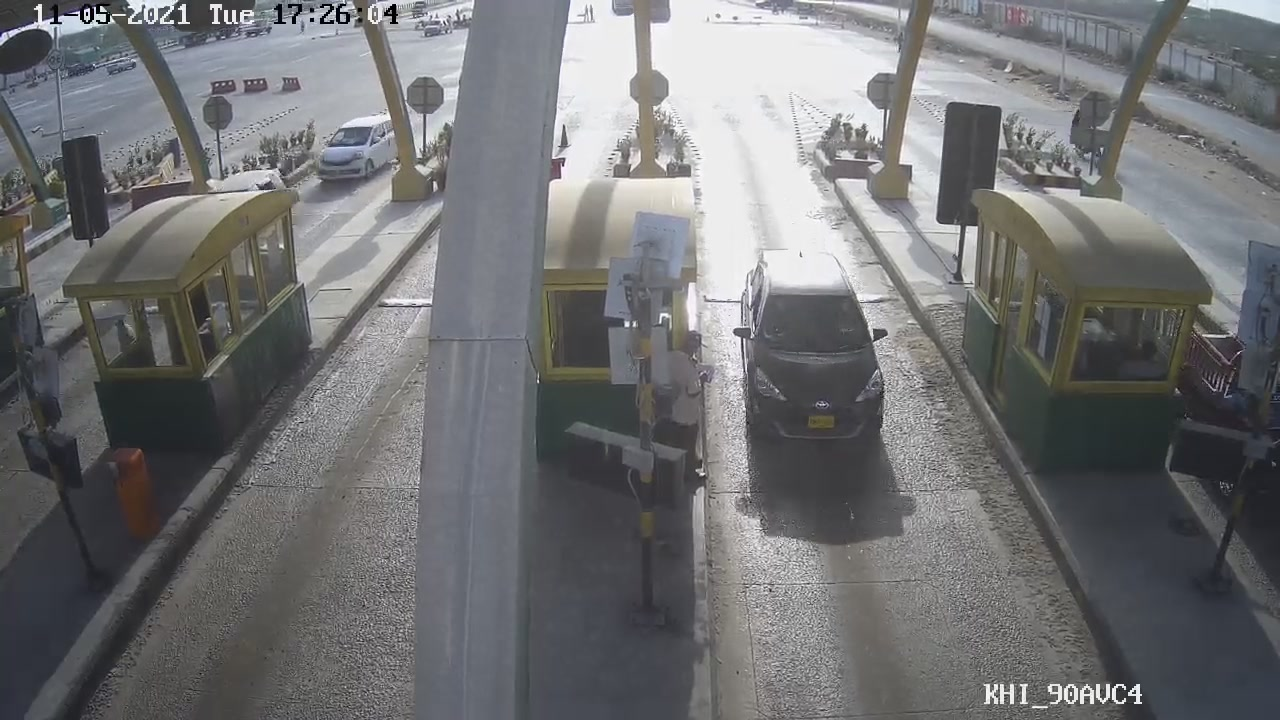F1: (726, 244, 909, 458)
